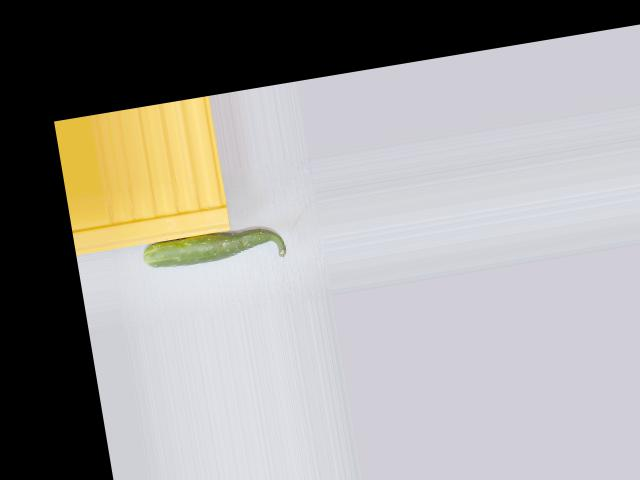cucumber: (142, 221, 288, 279)
